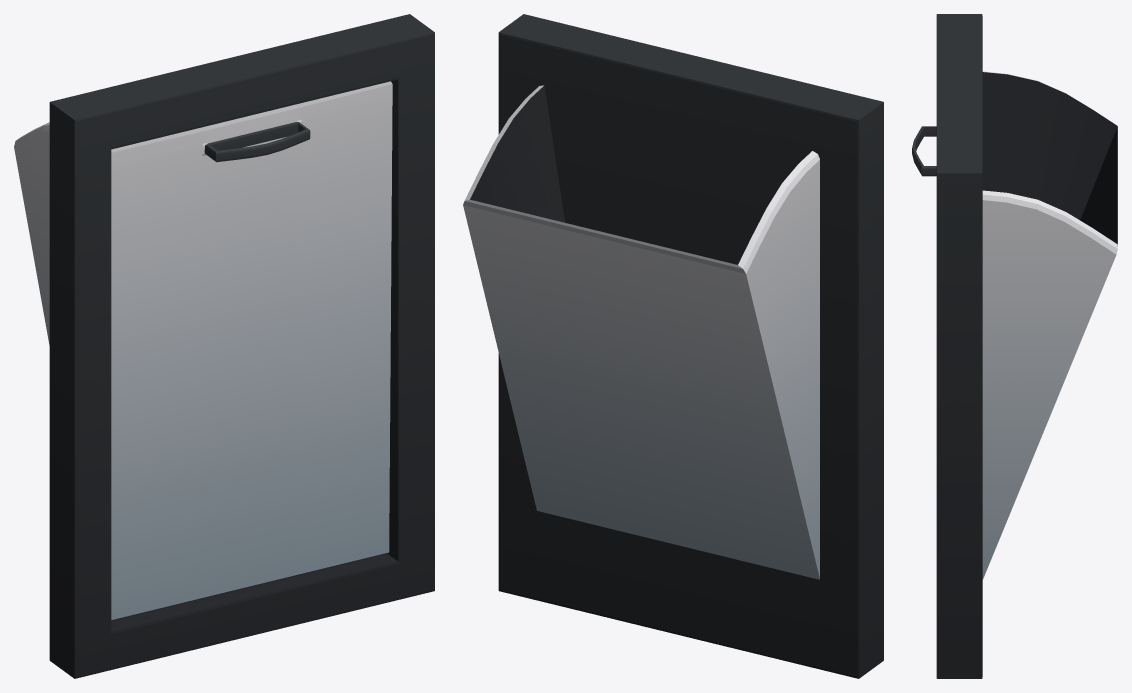
Rendered from Storage.fbx.
3 views of the same model, side by side, from view 1: azimuth 30°, elevation 25°; view 2: azimuth 150°, elevation 25°; view 3: azimuth 270°, elevation 25° (orthographic). The views are drawn at different scales.
Parts seen in each view (by area): view 1: Storage Lid.001, Storage.001; view 2: Storage.001, Storage Lid.001; view 3: Storage Lid.001, Storage.001.
Part boxes in pixels (x1,y1,x2,y2): Storage Lid.001: (14,81,392,619); Storage.001: (49,14,434,678); Storage.001: (498,14,883,678); Storage Lid.001: (463,85,819,579); Storage Lid.001: (912,71,1117,579); Storage.001: (936,14,982,678).
Size of the model in its own units: 711 by 1054 by 389.
